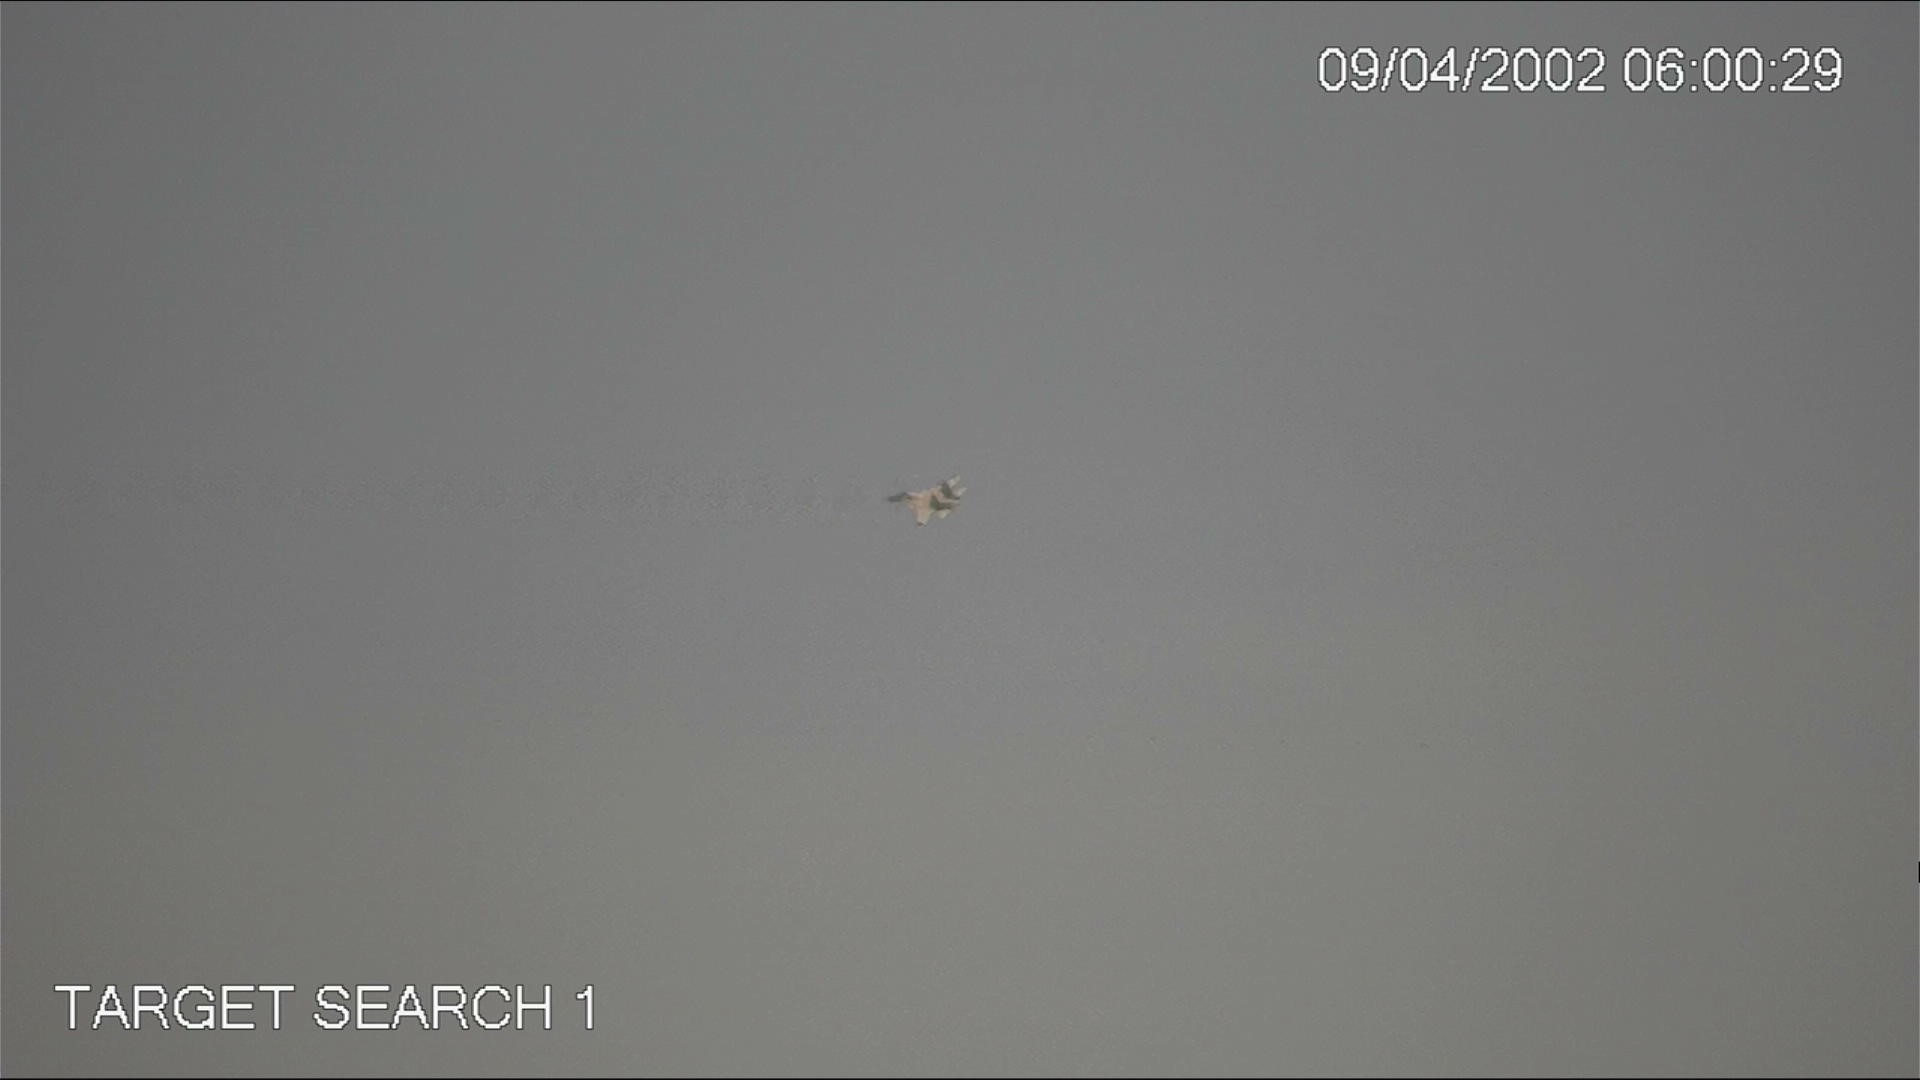SU_30: (887, 473, 952, 524)
